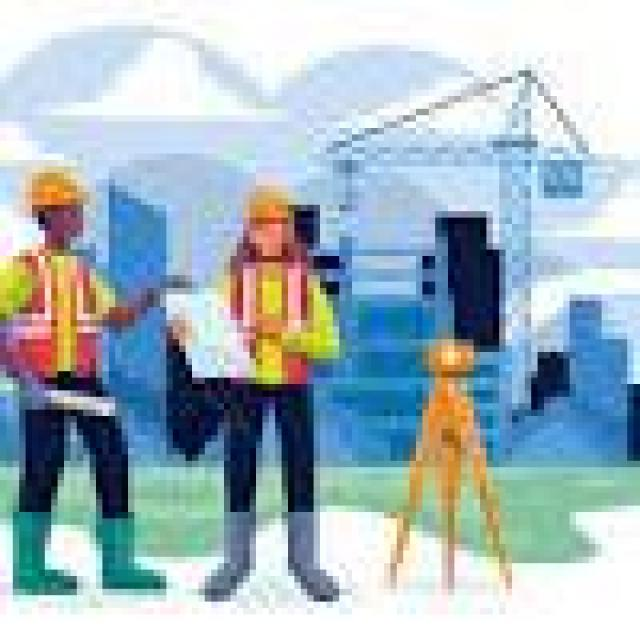Reflective-Jacket: (198, 230, 346, 397), (0, 243, 109, 397)
Safety-Helmet: (7, 154, 102, 230), (230, 166, 314, 237)
